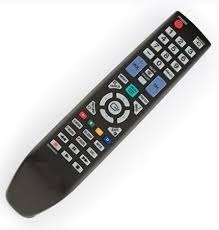remote control: (0, 3, 219, 230)
